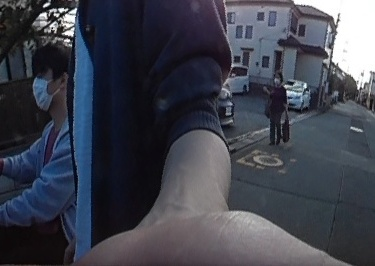person: (265, 70, 289, 142)
